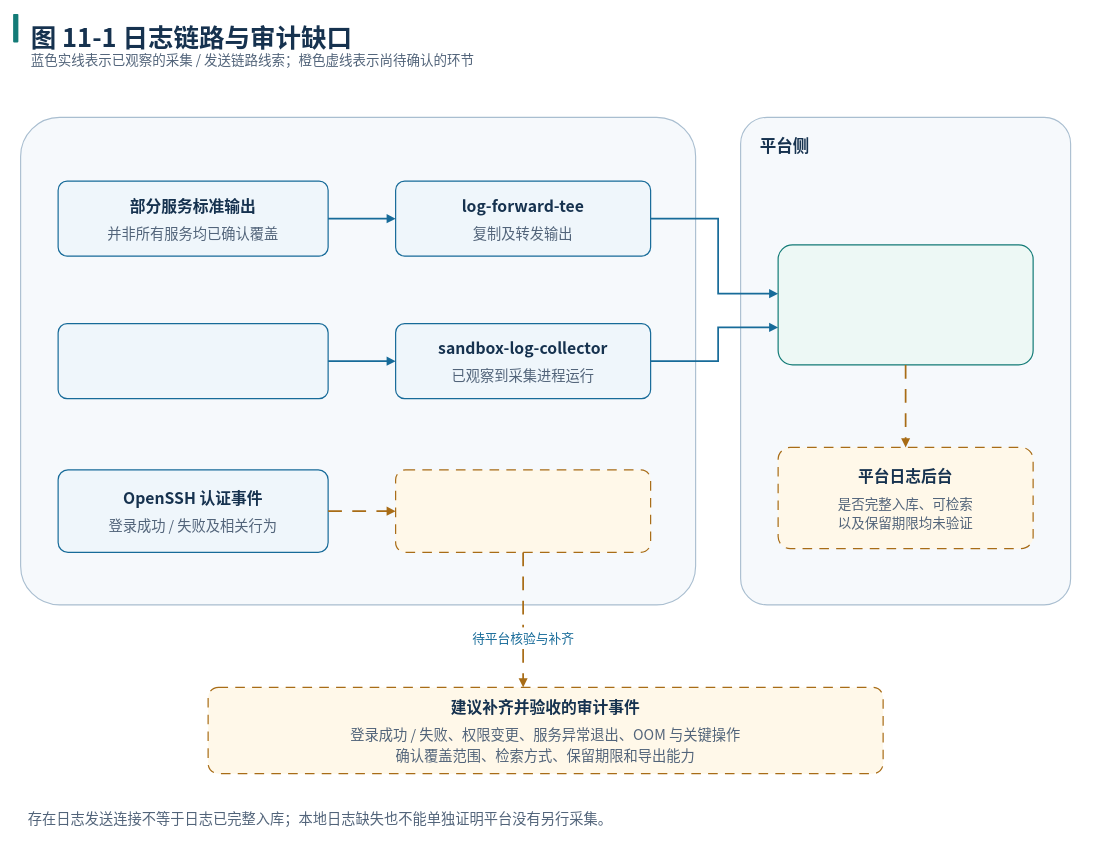
The diagram is 1094 pixels wide and 846 high, and some of its shapes have lost their labels. The box of each missing label's shape, as (x1, y1, x2, y2) in pixels:
WorkBuddy 容器内部: (20, 116, 696, 605)
平台日志接收端 172.24.0.1:18100 已观察到多个连接: (777, 244, 1033, 365)
平台日志文件 采集目录与覆盖范围需复核: (57, 323, 328, 399)
留存链路未确认 常规 auth.log / journal 缺失 sshd 标准输出指向空设备: (395, 469, 651, 553)
